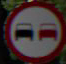No overtake: (6, 1, 61, 58)
